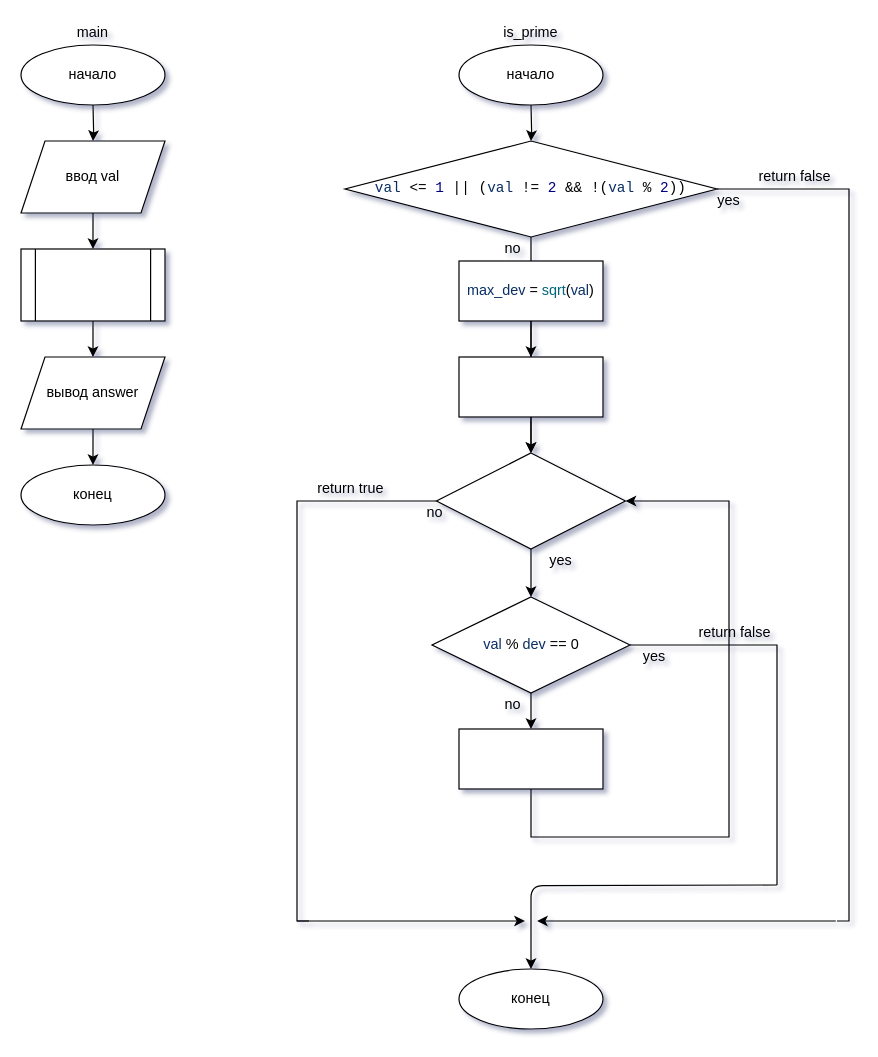
This 878x1057 diagram has some shape labels left out. Here are the shapes that lost their labels. From the top down, the centre of each, then its label:
At (92,284): "answer = is_prime(val)".
At (530,386): "dev = 3".
At (530,500): "dev <= max_dev".
At (530,758): "dev += 2".
